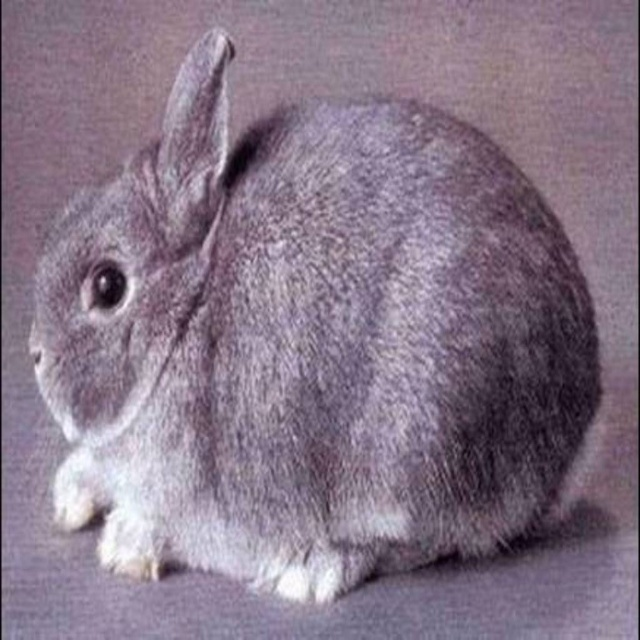Rabbit: (27, 27, 609, 607)
